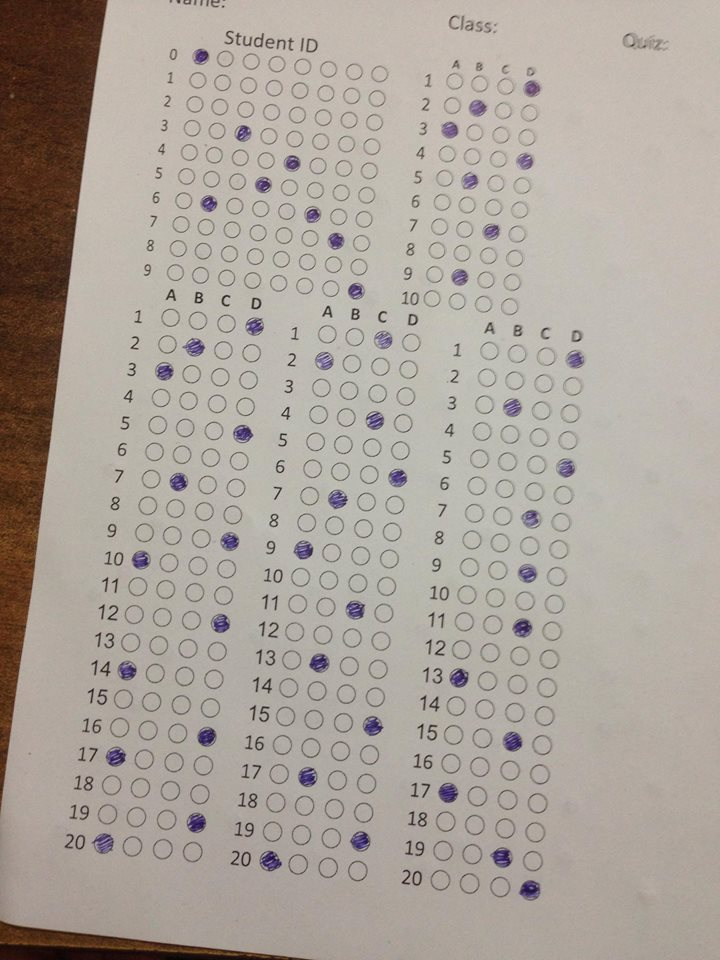not-c: (266, 52, 289, 75), (366, 685, 388, 709), (399, 359, 421, 382), (320, 827, 343, 849), (354, 800, 374, 825), (210, 366, 232, 388), (185, 582, 207, 604), (401, 332, 423, 354), (338, 379, 360, 401), (529, 399, 551, 421), (510, 645, 532, 667), (500, 761, 522, 783), (529, 765, 551, 787), (369, 62, 390, 85), (157, 809, 178, 832), (332, 712, 355, 733), (476, 669, 499, 690), (471, 728, 494, 749), (215, 560, 239, 580), (346, 325, 366, 349), (430, 841, 454, 861), (241, 51, 262, 73), (315, 83, 337, 104), (216, 314, 238, 335), (165, 497, 186, 519), (188, 556, 210, 577), (204, 668, 225, 690), (171, 695, 192, 717), (138, 719, 159, 741), (126, 806, 147, 828), (153, 839, 175, 860), (183, 842, 204, 864), (304, 431, 326, 452), (275, 705, 296, 727), (499, 425, 521, 446), (454, 611, 475, 633), (540, 649, 562, 670), (507, 674, 529, 695), (533, 706, 555, 727), (531, 735, 553, 756), (494, 819, 516, 840), (353, 209, 376, 229), (201, 696, 221, 719), (316, 858, 339, 878), (131, 776, 150, 800), (449, 641, 473, 660), (289, 80, 310, 101), (287, 104, 308, 125), (160, 307, 181, 328), (235, 397, 256, 418), (194, 502, 215, 523), (192, 528, 213, 549), (109, 718, 130, 739), (98, 803, 119, 824), (394, 414, 415, 435), (506, 343, 527, 364), (534, 373, 555, 394), (563, 375, 584, 396), (515, 590, 536, 611), (543, 621, 564, 642), (441, 755, 462, 776), (498, 789, 519, 810), (345, 60, 365, 82), (177, 391, 199, 411), (200, 447, 220, 469), (140, 468, 160, 490), (120, 633, 142, 653), (208, 641, 228, 663), (101, 775, 123, 795), (159, 781, 181, 801), (316, 323, 338, 343), (312, 625, 334, 645), (367, 659, 389, 679), (359, 745, 381, 765), (292, 824, 312, 846), (473, 395, 495, 415), (179, 611, 202, 630), (310, 378, 333, 397), (306, 681, 329, 700), (266, 791, 285, 814), (528, 792, 547, 815), (216, 49, 236, 70), (319, 58, 339, 79), (367, 88, 387, 109), (188, 70, 208, 91), (313, 107, 334, 127), (334, 159, 354, 180), (359, 160, 380, 180), (157, 334, 177, 355), (204, 421, 225, 441), (135, 523, 156, 543), (156, 579, 177, 599), (149, 635, 169, 656), (179, 637, 199, 658), (176, 667, 196, 688), (168, 725, 189, 745), (165, 752, 185, 773), (123, 836, 144, 856), (396, 386, 416, 407), (360, 464, 380, 485), (375, 602, 395, 623), (342, 628, 362, 649), (282, 650, 303, 670), (280, 677, 300, 698), (331, 741, 351, 762), (270, 764, 290, 785), (536, 346, 556, 367), (557, 430, 578, 450), (547, 566, 567, 587), (537, 677, 558, 697), (475, 698, 496, 718), (525, 823, 546, 843), (524, 851, 544, 872), (175, 417, 194, 439), (212, 586, 234, 605), (188, 785, 210, 804), (337, 407, 356, 429), (333, 436, 355, 455), (318, 571, 340, 590), (372, 630, 391, 652), (296, 795, 315, 817), (494, 479, 516, 498), (463, 843, 482, 865), (392, 440, 410, 463), (440, 97, 463, 115), (428, 871, 451, 889), (265, 78, 285, 98), (261, 102, 281, 122), (339, 110, 359, 130), (242, 344, 262, 364), (138, 496, 158, 516), (160, 554, 180, 574), (153, 608, 173, 628), (146, 663, 166, 683), (331, 461, 351, 481), (353, 518, 373, 538), (383, 523, 403, 543), (380, 549, 400, 569), (328, 770, 348, 790), (493, 100, 513, 120), (490, 533, 510, 553), (549, 541, 569, 561), (342, 86, 361, 107), (227, 172, 248, 191), (357, 185, 378, 204), (170, 215, 191, 234), (182, 365, 203, 384), (152, 388, 171, 409), (144, 442, 163, 463), (171, 446, 192, 465), (225, 479, 246, 498), (128, 577, 149, 596), (113, 690, 134, 709), (135, 748, 154, 769), (195, 755, 214, 776), (362, 439, 383, 458), (302, 738, 323, 757), (348, 862, 369, 881), (490, 125, 511, 144), (499, 298, 520, 317), (527, 455, 548, 474), (524, 482, 545, 501), (518, 537, 539, 556), (487, 561, 508, 580), (458, 584, 477, 605), (544, 595, 565, 614), (480, 642, 501, 661), (445, 696, 466, 715), (471, 756, 490, 777), (461, 872, 480, 893), (341, 355, 363, 373), (370, 358, 392, 376), (321, 545, 343, 563), (286, 596, 308, 614), (288, 855, 310, 873), (293, 57, 312, 77), (213, 74, 233, 93), (236, 99, 255, 119), (206, 145, 225, 165), (309, 155, 328, 175), (279, 177, 299, 196), (330, 207, 350, 226), (222, 220, 242, 239), (249, 222, 269, 241), (274, 226, 294, 245), (301, 228, 320, 248), (188, 311, 208, 330), (239, 370, 258, 390), (207, 395, 227, 414), (229, 452, 249, 471), (198, 475, 217, 495), (222, 506, 242, 525), (163, 526, 183, 545), (125, 604, 144, 624), (142, 692, 161, 712), (368, 386, 388, 405), (378, 577, 397, 597), (340, 658, 360, 677), (338, 684, 357, 704), (272, 736, 292, 755), (357, 774, 377, 793), (325, 799, 345, 818), (264, 823, 284, 842), (486, 588, 505, 608), (484, 615, 503, 635), (468, 786, 487, 806), (466, 816, 486, 835), (491, 877, 510, 897), (176, 168, 197, 186), (250, 200, 271, 218), (306, 709, 324, 730), (483, 197, 504, 215), (461, 532, 482, 550), (470, 424, 492, 441), (186, 95, 205, 114), (210, 97, 229, 116), (209, 121, 228, 140), (260, 128, 279, 147), (286, 130, 305, 149), (203, 170, 222, 189), (194, 241, 213, 260), (299, 252, 318, 271), (304, 460, 323, 479), (325, 516, 344, 535), (471, 73, 490, 92), (506, 250, 525, 269), (475, 295, 494, 314), (480, 341, 499, 360), (530, 428, 549, 447), (554, 485, 573, 504), (460, 559, 479, 578), (149, 415, 167, 435), (310, 407, 330, 425), (298, 514, 318, 532), (351, 547, 371, 565), (349, 573, 367, 593), (317, 598, 337, 616), (285, 624, 305, 642), (437, 168, 455, 188), (562, 404, 580, 424), (497, 452, 517, 470), (465, 505, 485, 523), (505, 704, 525, 722), (173, 192, 194, 209), (165, 265, 186, 282), (384, 497, 405, 514), (504, 372, 525, 389), (466, 478, 487, 495), (239, 76, 257, 95), (363, 137, 381, 156), (232, 148, 250, 167), (257, 151, 276, 169), (307, 181, 325, 200), (226, 198, 245, 216), (278, 202, 297, 220), (197, 217, 215, 236), (247, 248, 266, 266), (324, 256, 342, 275), (218, 269, 236, 288), (269, 274, 288, 292), (214, 341, 233, 359), (291, 568, 310, 586), (447, 72, 466, 90), (498, 79, 517, 97), (465, 125, 484, 143), (513, 177, 532, 195), (510, 202, 529, 220), (508, 226, 527, 244), (476, 271, 495, 289), (448, 292, 467, 310), (479, 367, 497, 386), (445, 725, 463, 744), (437, 813, 455, 832), (522, 104, 539, 124), (493, 508, 513, 525), (468, 451, 489, 467), (312, 132, 330, 150), (169, 240, 187, 258), (273, 251, 291, 269), (459, 196, 477, 214), (503, 273, 521, 291), (552, 513, 570, 531), (183, 119, 200, 138), (180, 143, 197, 162), (350, 259, 369, 276), (321, 280, 340, 297), (358, 493, 377, 510), (438, 147, 457, 164), (430, 218, 449, 235), (478, 247, 497, 264), (243, 273, 263, 289), (332, 184, 350, 201), (353, 234, 370, 252), (192, 267, 210, 284), (517, 129, 535, 146), (434, 193, 452, 210), (426, 266, 444, 283), (365, 114, 384, 130), (302, 486, 318, 505), (489, 151, 508, 167), (457, 220, 473, 239), (338, 135, 355, 152), (221, 245, 238, 262), (295, 279, 313, 295), (463, 148, 481, 164), (487, 176, 505, 192), (428, 242, 446, 258), (424, 289, 440, 307), (454, 245, 471, 261)
taken-c: (489, 845, 515, 872), (258, 848, 284, 874), (208, 611, 234, 636), (91, 831, 116, 857), (518, 878, 544, 903), (307, 651, 332, 675), (292, 537, 316, 562), (501, 395, 525, 420), (500, 729, 525, 753), (231, 421, 255, 445), (510, 616, 534, 640), (242, 315, 267, 338), (184, 334, 207, 359), (105, 744, 128, 769), (515, 562, 540, 585), (437, 780, 460, 805), (185, 809, 207, 835), (152, 359, 176, 382), (130, 547, 153, 571), (195, 725, 218, 749), (350, 829, 373, 853), (297, 765, 320, 789), (364, 408, 387, 432), (219, 530, 242, 553), (345, 598, 368, 621), (313, 349, 336, 372), (439, 118, 462, 141), (372, 328, 394, 352), (362, 714, 385, 736), (564, 348, 587, 370), (448, 666, 470, 689), (450, 265, 471, 289), (168, 471, 190, 493), (554, 457, 576, 479), (520, 508, 542, 530), (325, 231, 348, 252), (387, 467, 408, 489), (460, 169, 481, 191), (326, 489, 349, 509), (480, 222, 503, 242), (191, 46, 211, 68), (346, 281, 366, 303), (117, 659, 137, 681), (515, 151, 536, 171), (467, 99, 489, 118), (233, 122, 252, 143), (303, 204, 322, 225), (254, 175, 273, 195), (523, 79, 542, 98), (200, 193, 218, 213), (282, 155, 301, 173)
